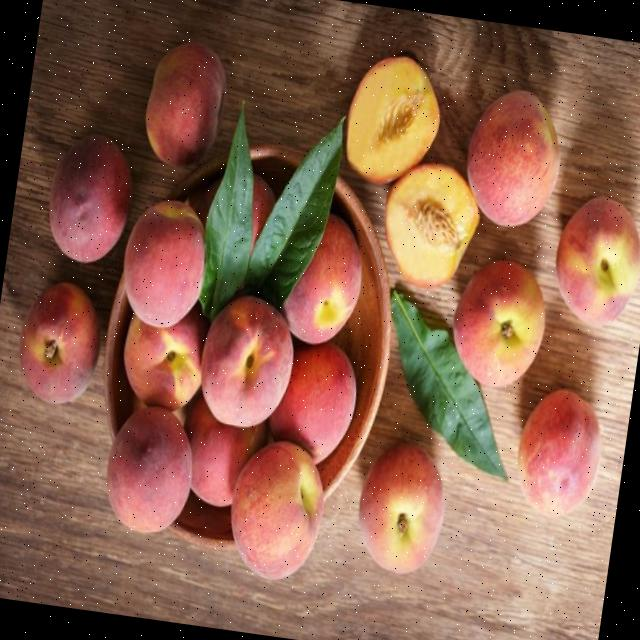peach: (465, 84, 561, 226), (229, 438, 323, 578), (200, 294, 294, 427), (452, 258, 546, 386), (357, 439, 446, 572), (516, 384, 602, 516), (555, 193, 640, 326), (268, 339, 356, 462), (106, 405, 192, 530), (282, 210, 362, 344), (18, 278, 99, 402), (145, 43, 226, 164), (123, 313, 201, 409)
